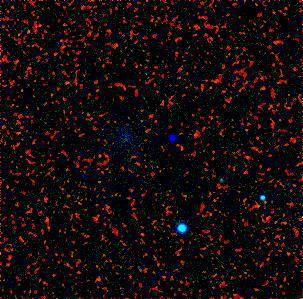star: (161, 125, 191, 155)
